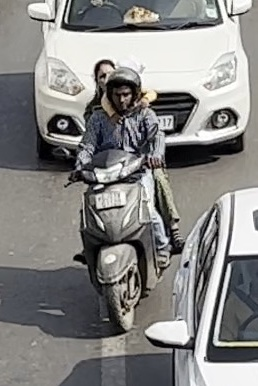BikeWithRider: (58, 54, 192, 337)
Helmet: (100, 63, 147, 118)
NoHelmet: (87, 55, 120, 98)
